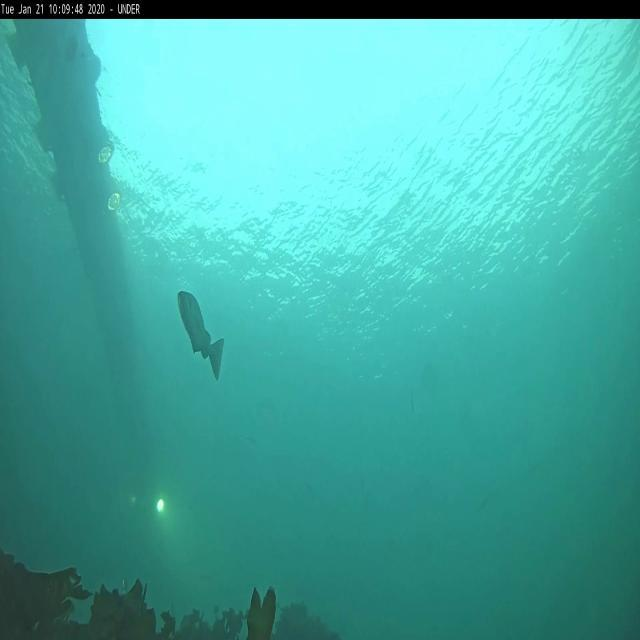fish: (176, 290, 224, 377)
